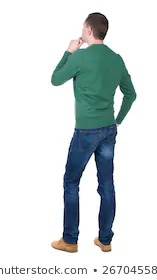person: (60, 12, 136, 104)
